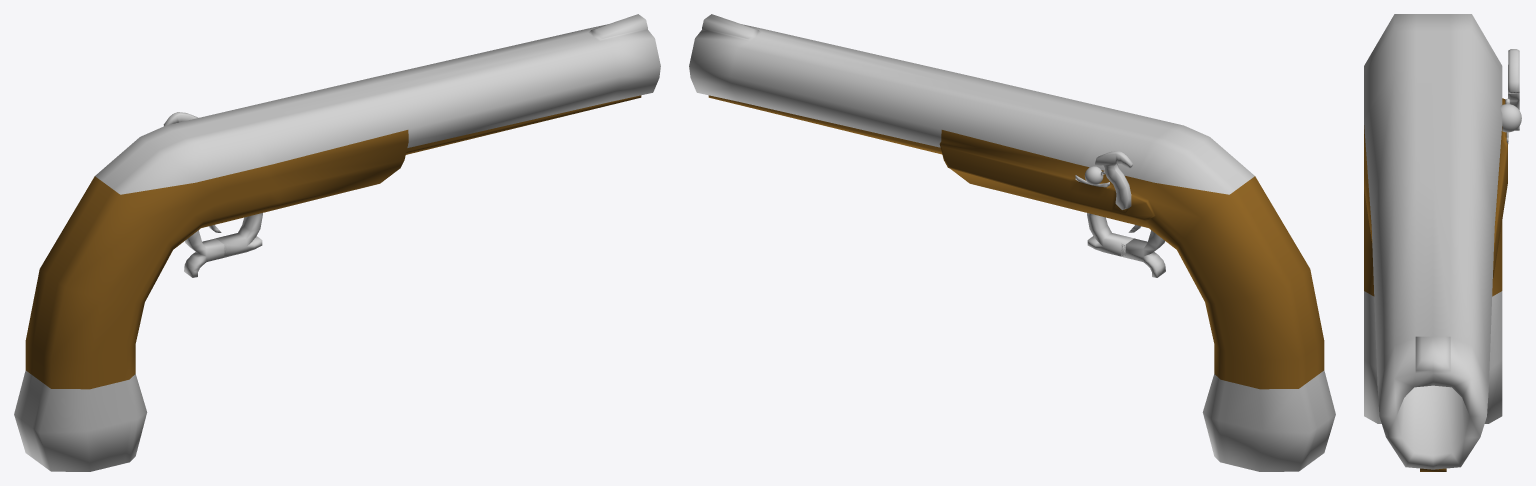
The model's file is pistol.obj.
3 views of the same model, side by side, from view 1: azimuth 30°, elevation 25°; view 2: azimuth 150°, elevation 25°; view 3: azimuth 270°, elevation 25° (orthographic). The views are drawn at different scales.
Parts seen in each view (by area): view 1: Cube; view 2: Cube; view 3: Cube.
Part boxes in pixels (x1=…): Cube: x1=14, y1=14, x2=660, y2=471; Cube: x1=689, y1=14, x2=1335, y2=471; Cube: x1=1364, y1=14, x2=1521, y2=471.
Size of the model in its own units: 15.61 by 7.21 by 2.28.
